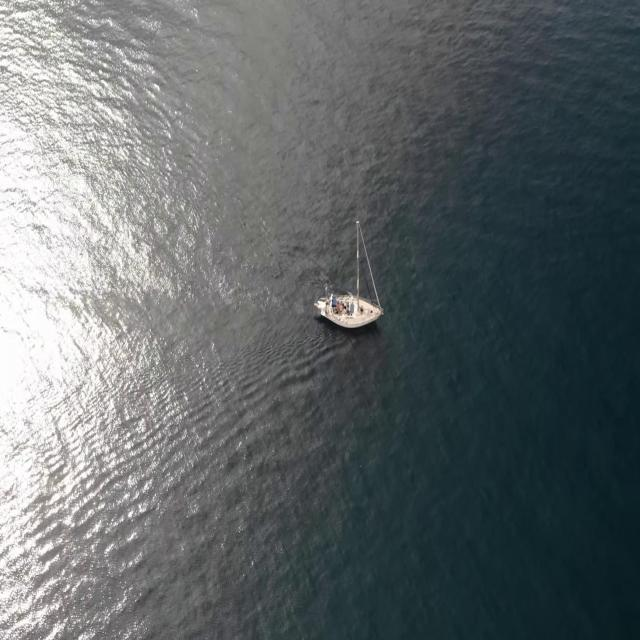sailboat: (313, 219, 385, 333)
